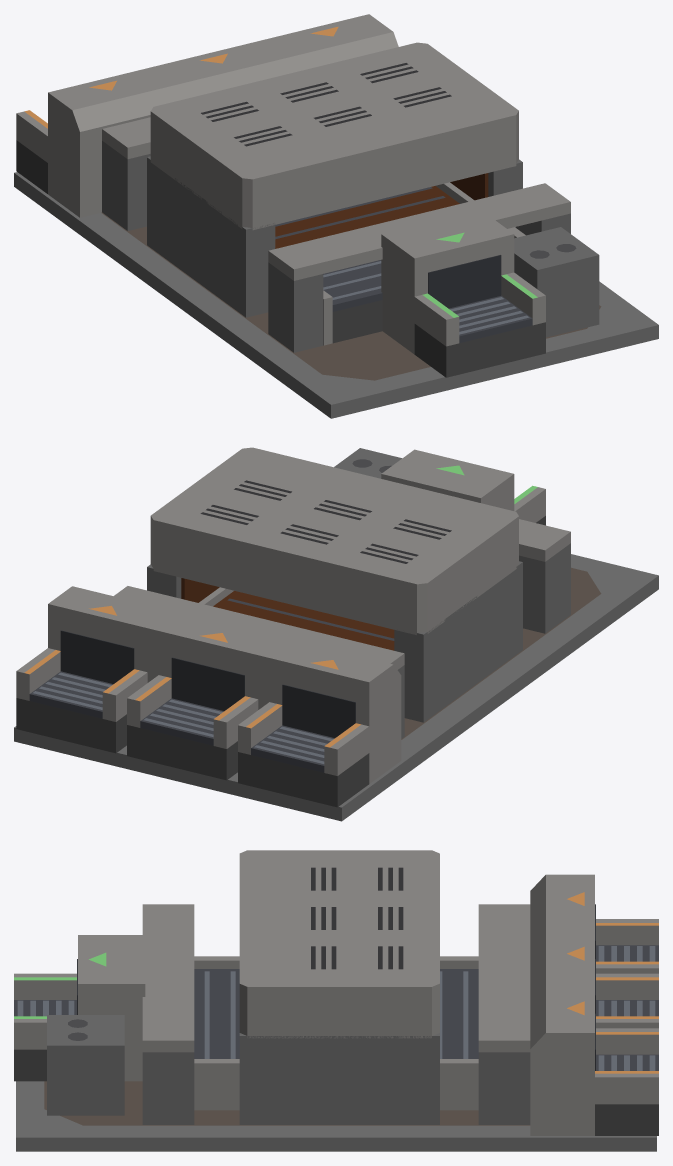
The model's file is vfef_oven_unlit.obj.
3 views of the same model, one above another, from view 1: azimuth 30°, elevation 25°; view 2: azimuth 150°, elevation 25°; view 3: azimuth 270°, elevation 25° (orthographic).
Visible parts, largest first — view 1: vfef_oven_unlit_45, vfef_oven_unlit_0, vfef_oven_unlit_2, vfef_oven_unlit_40, vfef_oven_unlit_47, vfef_oven_unlit_39, vfef_oven_unlit_57, vfef_oven_unlit_1, vfef_oven_unlit_49, vfef_oven_unlit_37, vfef_oven_unlit_31, vfef_oven_unlit_34 (+14 smaller); view 2: vfef_oven_unlit_45, vfef_oven_unlit_2, vfef_oven_unlit_0, vfef_oven_unlit_40, vfef_oven_unlit_47, vfef_oven_unlit_4, vfef_oven_unlit_36, vfef_oven_unlit_12, vfef_oven_unlit_20, vfef_oven_unlit_37, vfef_oven_unlit_31, vfef_oven_unlit_27 (+21 smaller); view 3: vfef_oven_unlit_45, vfef_oven_unlit_42, vfef_oven_unlit_0, vfef_oven_unlit_2, vfef_oven_unlit_36, vfef_oven_unlit_39, vfef_oven_unlit_57, vfef_oven_unlit_47, vfef_oven_unlit_29, vfef_oven_unlit_33, vfef_oven_unlit_35, vfef_oven_unlit_38 (+22 smaller).
Part boxes in pixels (left/top/right/bottom): vfef_oven_unlit_45: left=150, top=42, right=518, bottom=230; vfef_oven_unlit_0: left=14, top=172, right=658, bottom=418; vfef_oven_unlit_2: left=48, top=14, right=398, bottom=217; vfef_oven_unlit_40: left=147, top=156, right=275, bottom=317; vfef_oven_unlit_47: left=381, top=210, right=514, bottom=354; vfef_oven_unlit_39: left=268, top=183, right=570, bottom=280; vfef_oven_unlit_57: left=514, top=227, right=599, bottom=337; vfef_oven_unlit_1: left=101, top=212, right=601, bottom=380; vfef_oven_unlit_49: left=414, top=322, right=545, bottom=377; vfef_oven_unlit_37: left=268, top=262, right=323, bottom=352; vfef_oven_unlit_31: left=275, top=186, right=459, bottom=248; vfef_oven_unlit_34: left=102, top=141, right=150, bottom=230; vfef_oven_unlit_45: left=150, top=447, right=518, bottom=635; vfef_oven_unlit_2: left=48, top=586, right=401, bottom=783; vfef_oven_unlit_0: left=14, top=554, right=658, bottom=821; vfef_oven_unlit_40: left=394, top=561, right=522, bottom=722; vfef_oven_unlit_47: left=381, top=449, right=514, bottom=510; vfef_oven_unlit_4: left=238, top=752, right=369, bottom=807; vfef_oven_unlit_36: left=114, top=586, right=404, bottom=669; vfef_oven_unlit_12: left=127, top=725, right=237, bottom=780; vfef_oven_unlit_20: left=16, top=698, right=126, bottom=753; vfef_oven_unlit_37: left=519, top=543, right=570, bottom=633; vfef_oven_unlit_31: left=213, top=591, right=394, bottom=650; vfef_oven_unlit_27: left=60, top=630, right=134, bottom=683; vfef_oven_unlit_45: left=239, top=850, right=439, bottom=1038; vfef_oven_unlit_42: left=239, top=1033, right=439, bottom=1124; vfef_oven_unlit_0: left=16, top=1081, right=656, bottom=1151; vfef_oven_unlit_2: left=530, top=874, right=594, bottom=1135; vfef_oven_unlit_36: left=478, top=904, right=530, bottom=1052; vfef_oven_unlit_39: left=142, top=904, right=194, bottom=1052; vfef_oven_unlit_57: left=47, top=1015, right=124, bottom=1115; vfef_oven_unlit_47: left=78, top=935, right=145, bottom=1081; vfef_oven_unlit_29: left=194, top=969, right=478, bottom=1058; vfef_oven_unlit_33: left=194, top=1059, right=478, bottom=1110; vfef_oven_unlit_35: left=478, top=1052, right=530, bottom=1124; vfef_oven_unlit_38: left=142, top=1052, right=194, bottom=1124.
Bounding box in the file's own units: 2.96 × 1.3 × 4.99.
